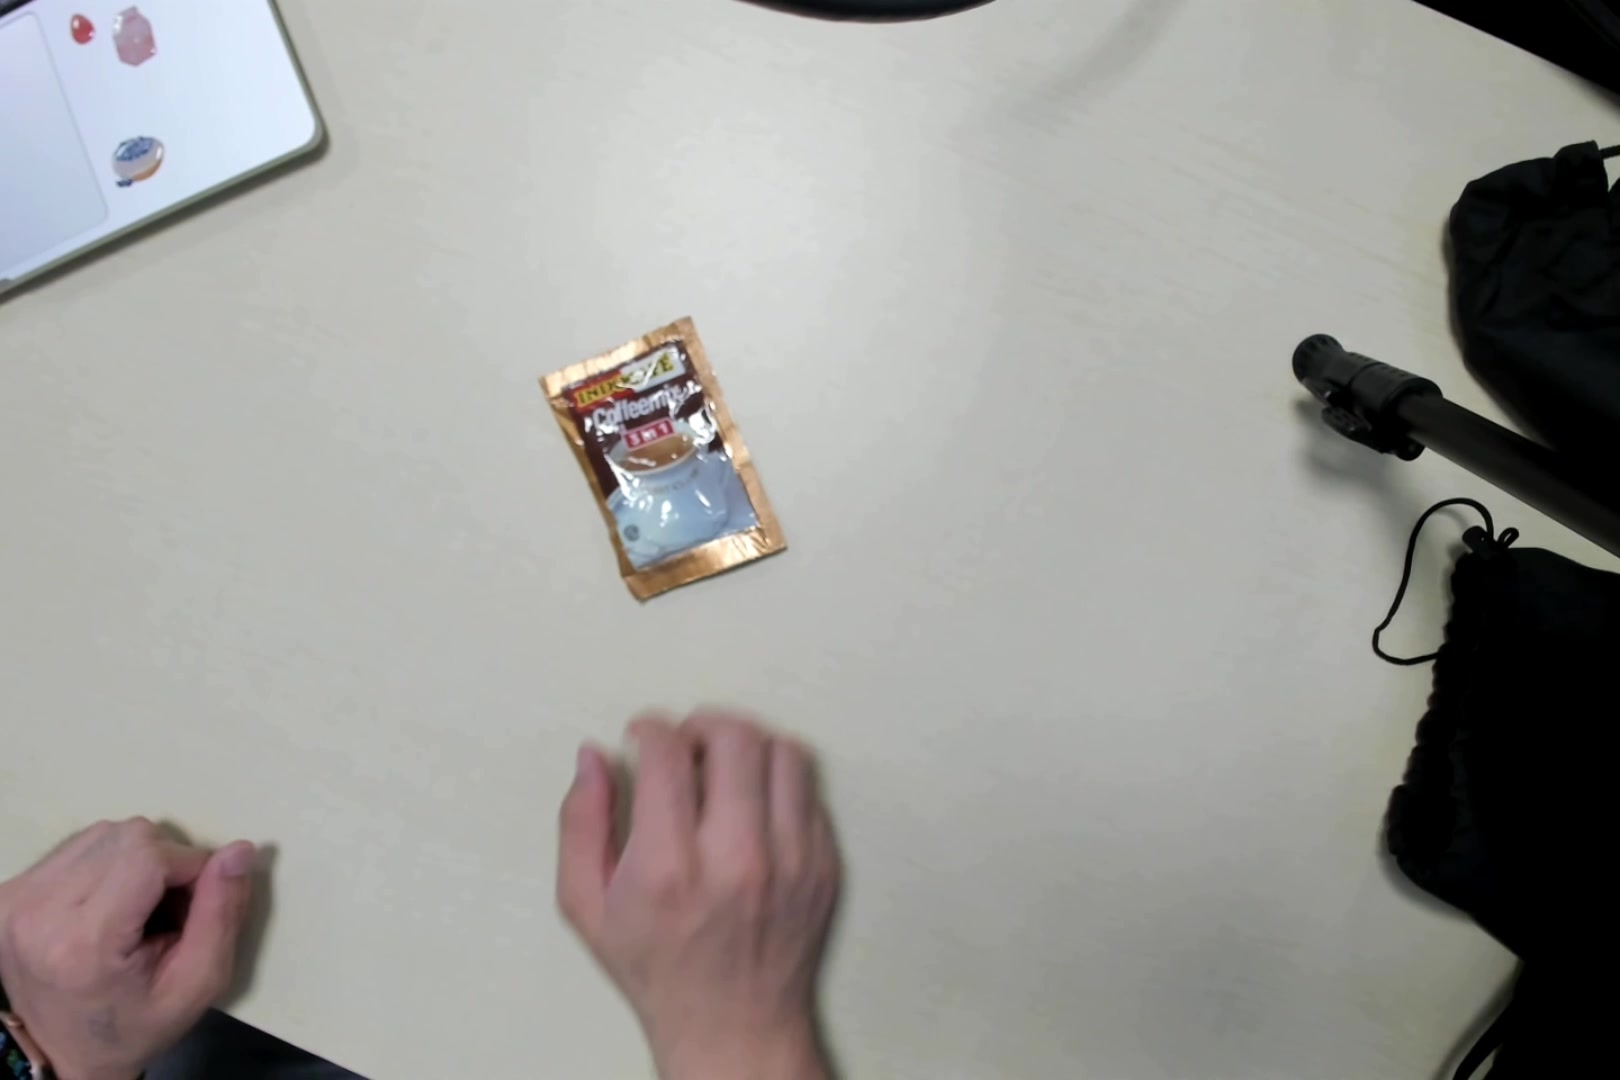Coffee(Powder)_0-99g_NonHalal_NonHealthy: (528, 321, 792, 607)
